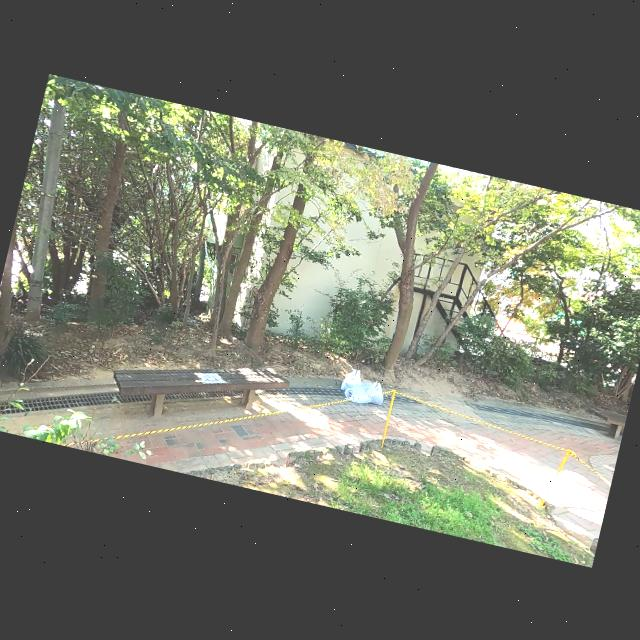trash: (340, 382, 374, 408), (361, 377, 388, 405), (339, 364, 364, 394), (353, 376, 374, 394)
